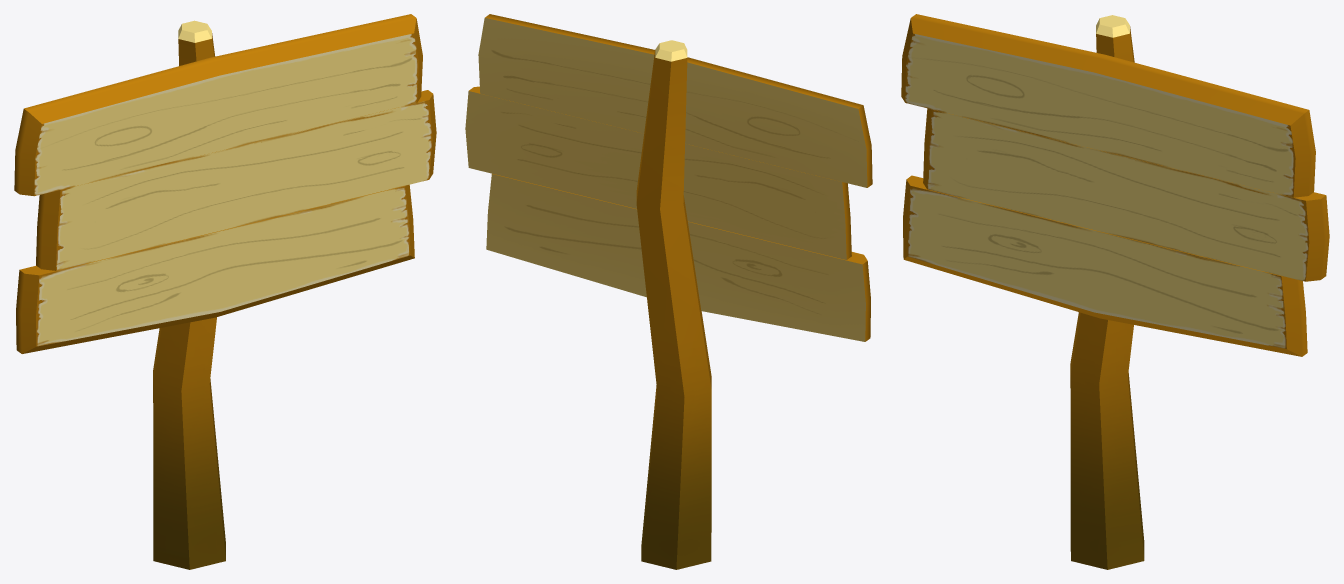
Rendered from kanban.fbx.
The picture shows the model from 3 angles, left to right: view 1: azimuth 30°, elevation 25°; view 2: azimuth 150°, elevation 25°; view 3: azimuth 330°, elevation 25°; orthographic projection. The views are drawn at different scales.
Parts seen in each view (by area): view 1: pCube3_high, pCube5_high, pCube4_high, pCylinder4_high; view 2: pCube3_high, pCylinder4_high, pCube5_high, pCube4_high; view 3: pCube3_high, pCube5_high, pCube4_high, pCylinder4_high.
Part boxes in pixels (x1,y1,x2,y2): pCube3_high: (14, 14, 422, 196); pCube5_high: (16, 184, 414, 353); pCube4_high: (36, 90, 436, 270); pCylinder4_high: (153, 20, 225, 569); pCube3_high: (478, 14, 872, 187); pCylinder4_high: (636, 40, 711, 569); pCube5_high: (486, 173, 870, 341); pCube4_high: (465, 86, 851, 259); pCube3_high: (901, 14, 1315, 197); pCube5_high: (903, 175, 1307, 356); pCube4_high: (923, 108, 1329, 281); pCylinder4_high: (1070, 15, 1144, 569).
Size of the model in its own units: 1.26 by 1.52 by 0.2112.
